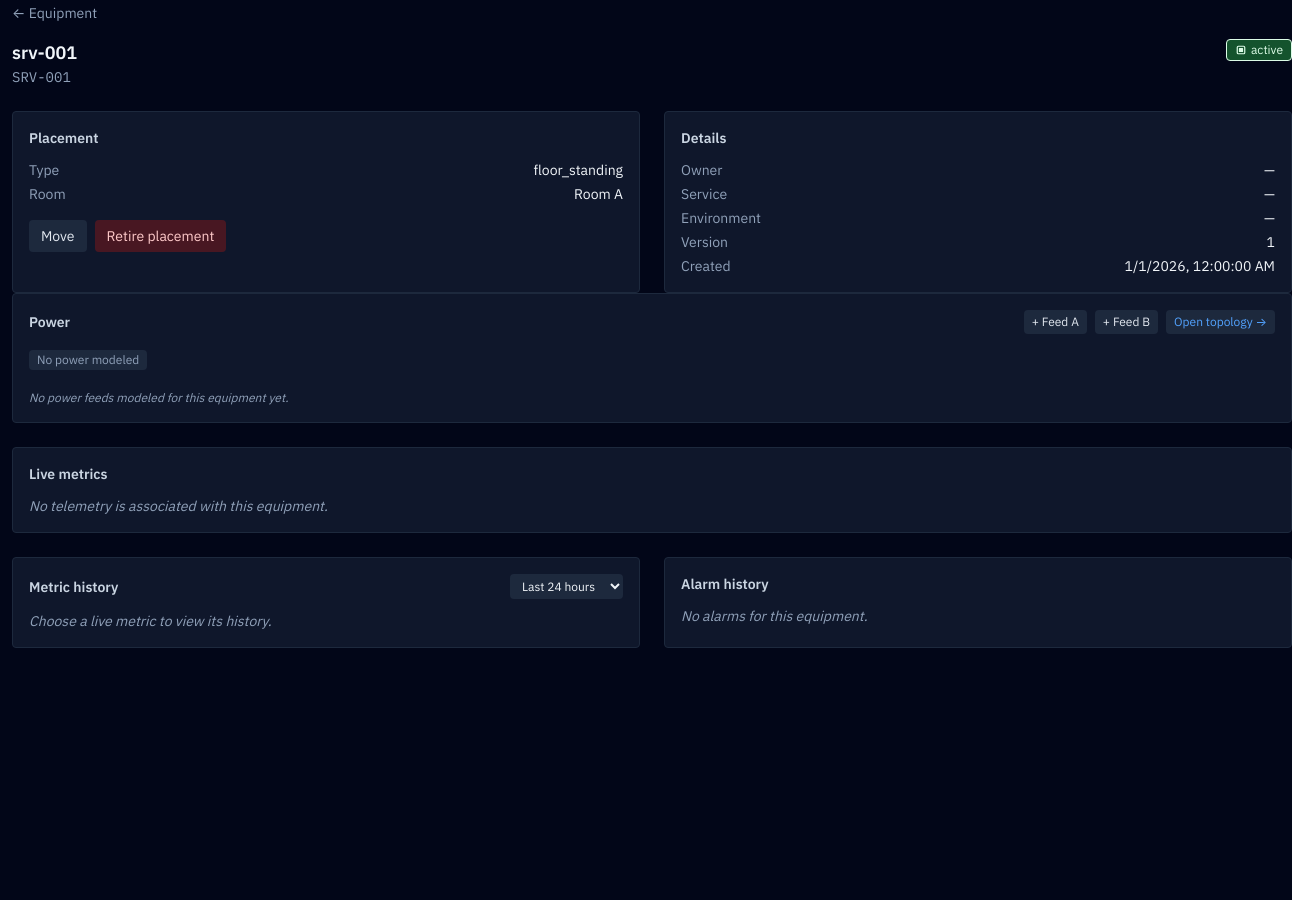
it: EquipmentDetailPage — move mutation error announcement › shows the raw error message via role=alert for a non-conflict failure
The image size is (1292, 900).
Click the button "Move": (58, 236) [29,220,87,252]
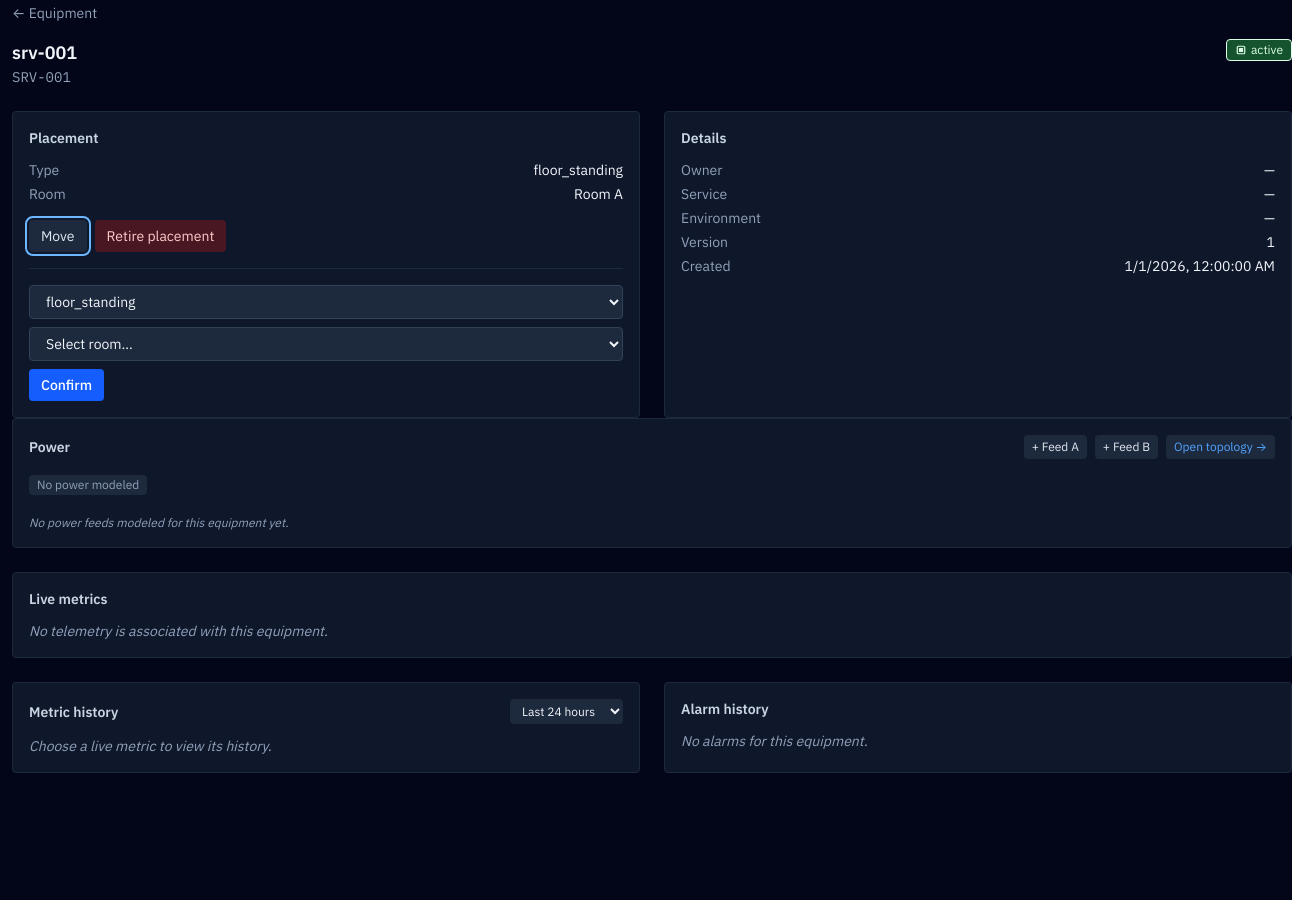
Select "Room A (A)" in the dropdown named "Placement room": (326, 344) [29,327,623,361]
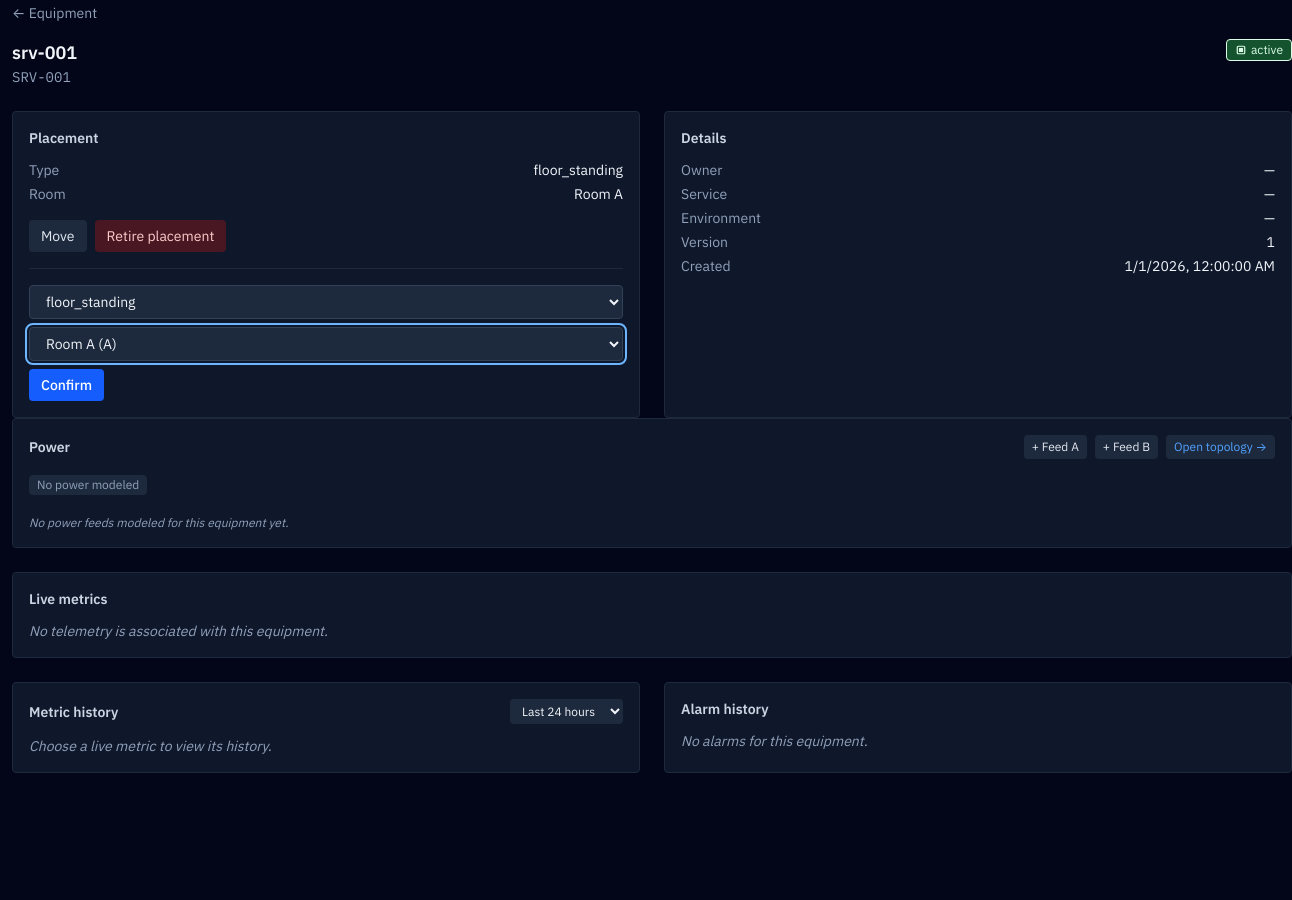
Click the button "Confirm": (66, 385) [29,369,104,401]
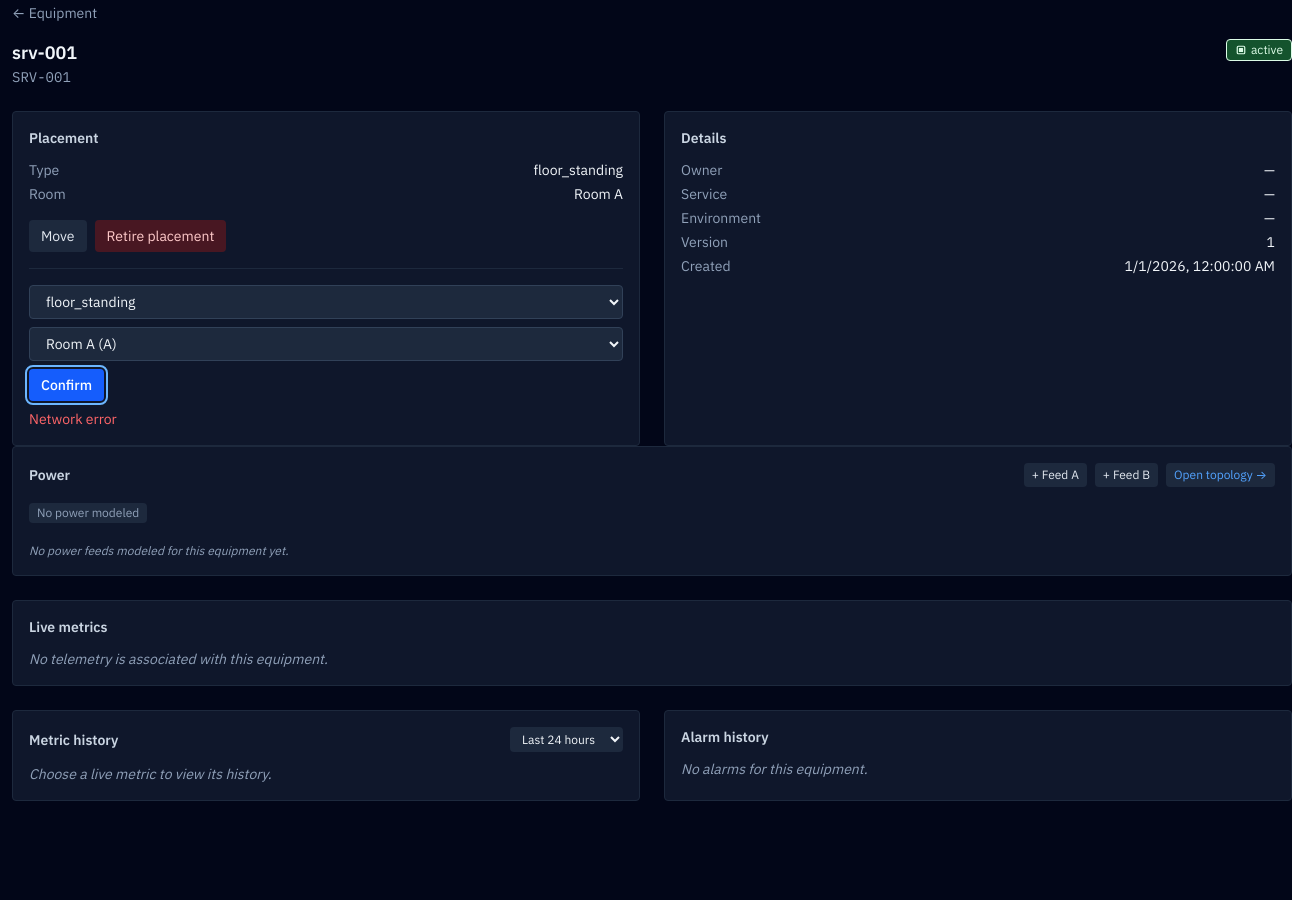
expect the message reads "Network error": met, box [29,410,117,428]
